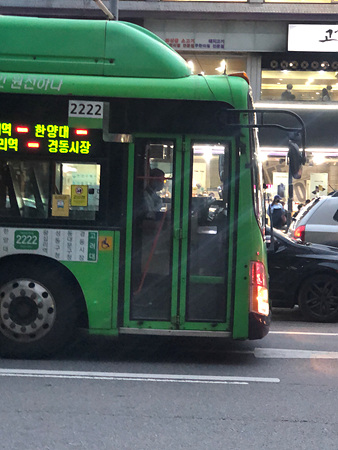entrance: (129, 133, 237, 335)
